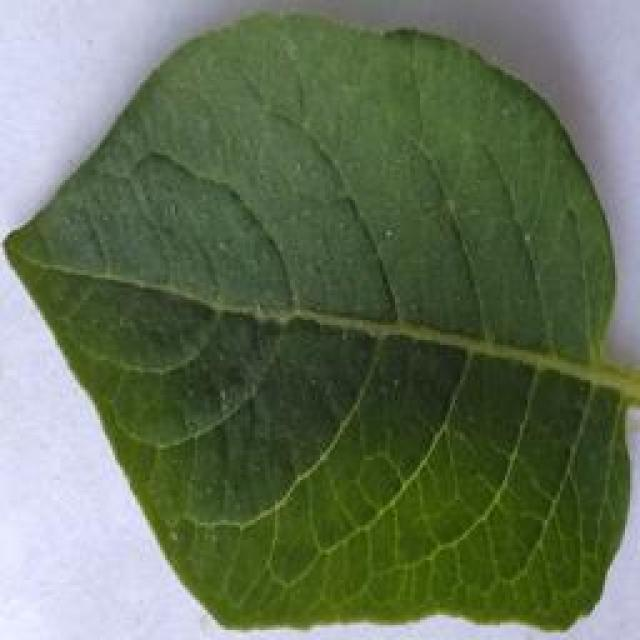Potato_Healthy: (1, 14, 619, 629)
